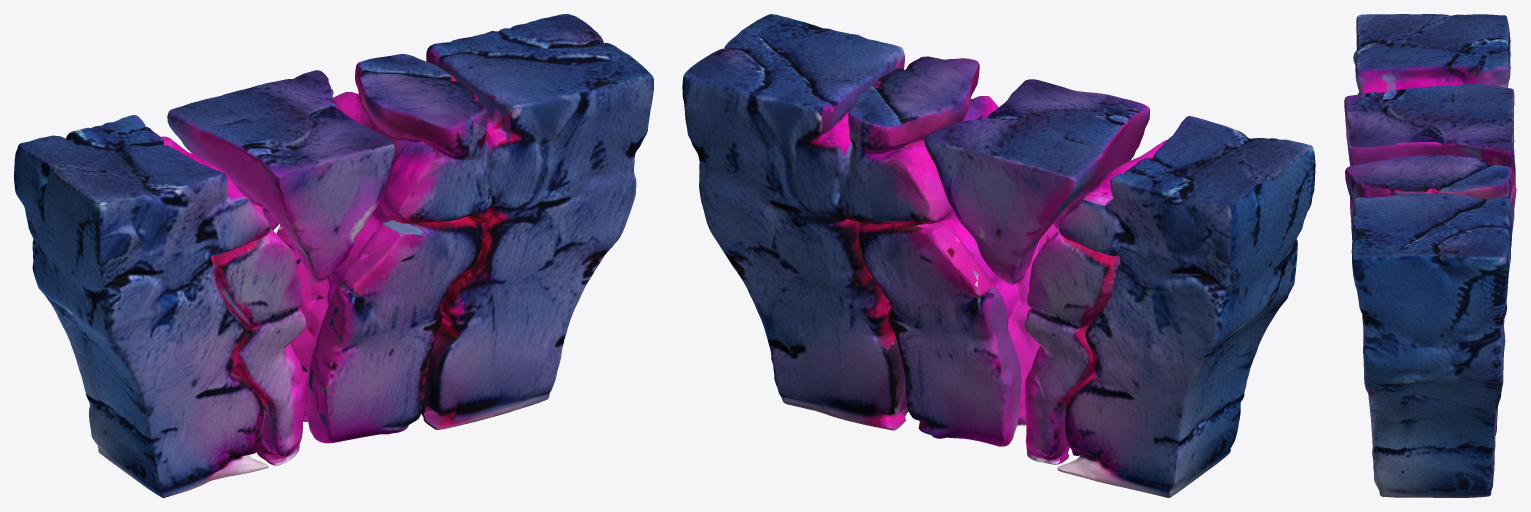
The model's file is shelf-break-2-generated-2026-05-17T20-38-05-158Z.high.glb.
3 views of the same model, side by side, from view 1: azimuth 30°, elevation 25°; view 2: azimuth 150°, elevation 25°; view 3: azimuth 270°, elevation 25° (orthographic). The views are drawn at different scales.
Visible parts, largest first — view 1: temp_mesh.ply; view 2: temp_mesh.ply; view 3: temp_mesh.ply.
Boxes of the visible parts, x1,y1,x2,y2 form: temp_mesh.ply: [14, 14, 653, 497]; temp_mesh.ply: [682, 14, 1315, 497]; temp_mesh.ply: [1344, 14, 1516, 497].
Bounding box in the file's own units: 1.97 × 1.09 × 0.5929.
Materials: 1 (1 with a texture image).
